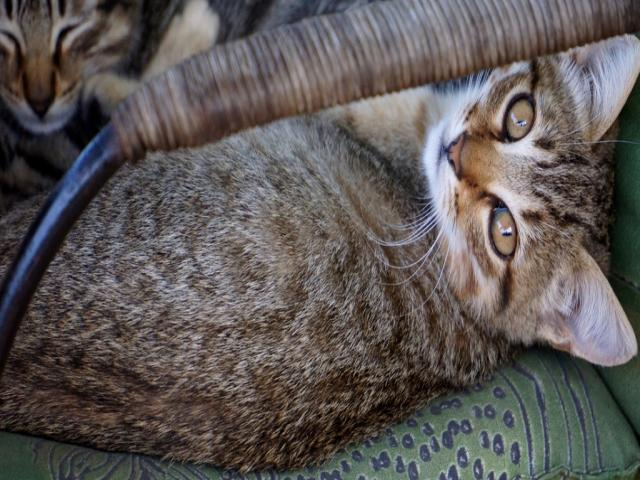Cat: (0, 28, 637, 473), (0, 0, 384, 139)
